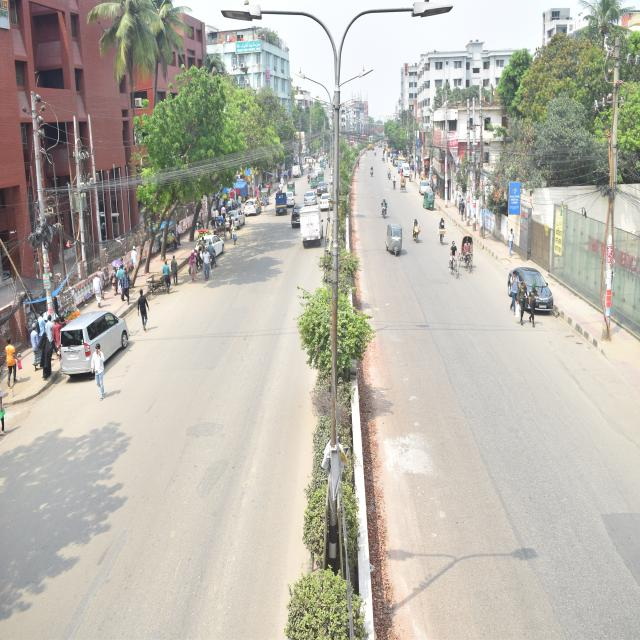car: (39, 299, 221, 438), (504, 243, 566, 333), (175, 209, 231, 303), (211, 191, 250, 234), (413, 177, 448, 222), (244, 188, 266, 234), (294, 179, 318, 217), (279, 197, 308, 226), (398, 149, 418, 186), (277, 184, 297, 214), (314, 193, 337, 214), (313, 177, 331, 198)
motorbike: (399, 210, 426, 255), (188, 231, 208, 284), (376, 188, 399, 222), (366, 148, 379, 191), (384, 157, 394, 191), (304, 171, 315, 196)
pickup-van: (268, 176, 294, 226), (289, 163, 309, 185)
